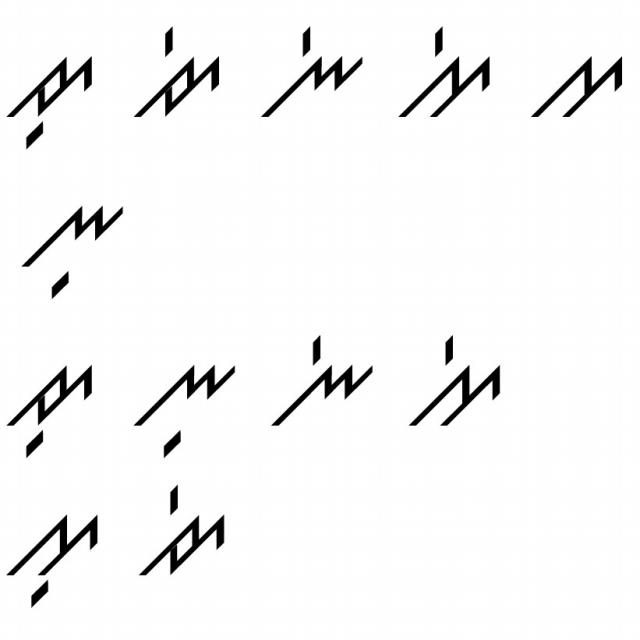je: (130, 485, 235, 581), (126, 22, 222, 122)
ju: (6, 354, 98, 466), (0, 47, 96, 148)
nye: (250, 25, 366, 125), (268, 327, 377, 431)
nyu: (126, 347, 240, 461), (17, 191, 131, 302)
sa: (527, 42, 626, 122)
se: (406, 322, 512, 428), (393, 22, 496, 128)
su: (5, 499, 106, 610)
